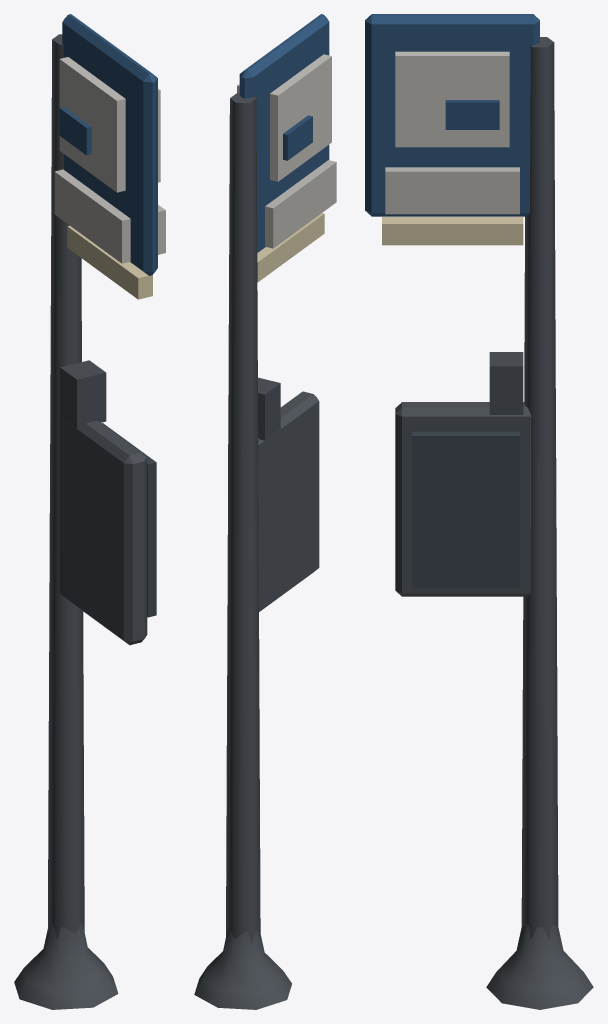
Rendered from bus_stop_flag_01.glb.
3 views of the same model, side by side, from view 1: azimuth 30°, elevation 25°; view 2: azimuth 150°, elevation 25°; view 3: azimuth 270°, elevation 25° (orthographic). The views are drawn at different scales.
Parts seen in each view (by area): view 1: bus_stop_flag_01; view 2: bus_stop_flag_01; view 3: bus_stop_flag_01.
Boxes of the visible parts, bbox=[...] form: bus_stop_flag_01: bbox=[14, 14, 165, 1009]; bus_stop_flag_01: bbox=[194, 14, 336, 1009]; bus_stop_flag_01: bbox=[365, 14, 593, 1009].
Bounding box in the file's own units: 0.3199 × 3.19 × 0.6799.
